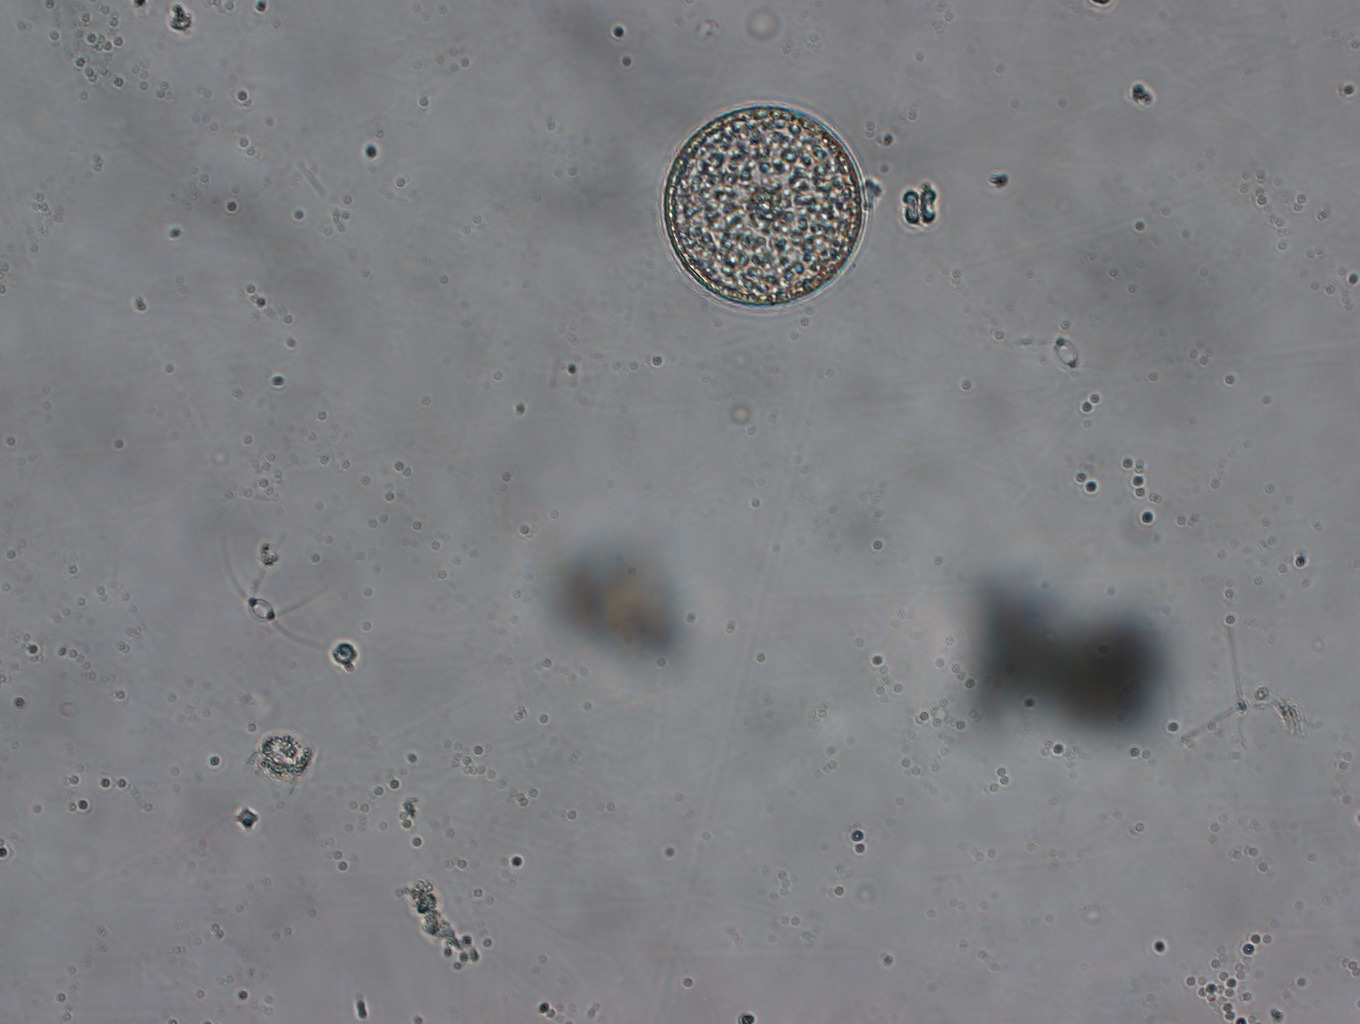coscinodiscus: (658, 100, 868, 308)
